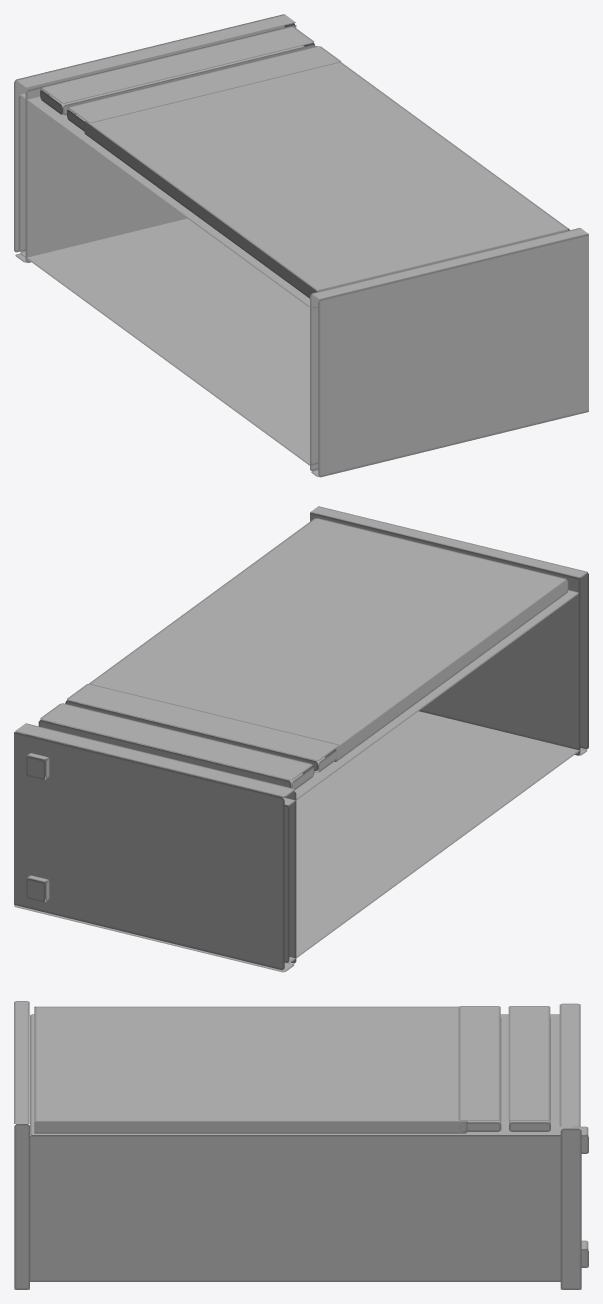
File: pz_wardrobe_storage_01_fancy_white_1_0.obj
The picture shows the model from 3 angles, top to bottom: view 1: azimuth 30°, elevation 25°; view 2: azimuth 150°, elevation 25°; view 3: azimuth 270°, elevation 25°; orthographic projection. The views are drawn at different scales.
Bounding box in the file's own units: 0.995 × 0.625 × 1.96.
1 material, 1 textured.
